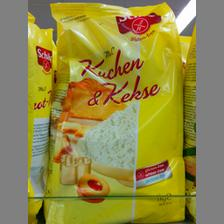Mehl: (48, 1, 185, 222)
